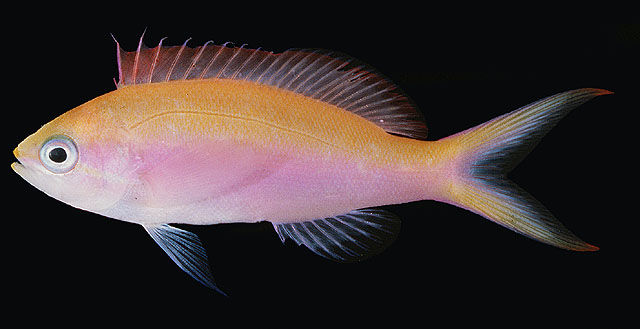fish: (10, 27, 615, 296)
